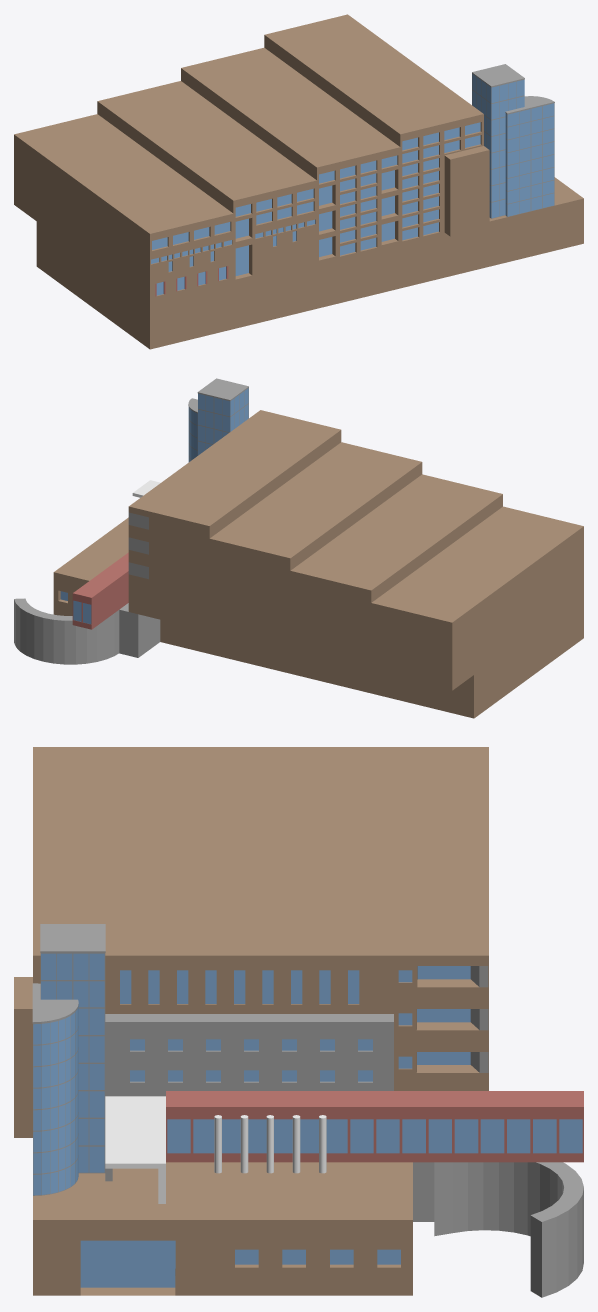
File: artTexture.fbx
3 renders of one model, top to bottom at view 1: azimuth 30°, elevation 25°; view 2: azimuth 150°, elevation 25°; view 3: azimuth 270°, elevation 25°, orthographic. The views are drawn at different scales.
Visible parts, largest first — view 1: Cube.006, Cube.001, Cylinder, Cube.002, Cube.007, Cube; view 2: Cube.006, Cube.001, Cylinder.001, Cube, Cube.002, Cube.003, Cube.005, Cylinder; view 3: Cube.006, Cube, Cube.003, Cube.004, Cylinder.001, Cube.002, Cylinder, Cube.001, Cube.008, Cube.007, Cube.005.
Part boxes in pixels (left/top/right/bottom): Cube.006: left=14, top=14, right=483, bottom=304; Cube.001: left=36, top=208, right=544, bottom=349; Cylinder: left=505, top=96, right=554, bottom=216; Cube.002: left=472, top=64, right=524, bottom=218; Cube.007: left=444, top=146, right=489, bottom=236; Cube: left=544, top=177, right=583, bottom=252; Cube.006: left=128, top=410, right=583, bottom=690; Cube.001: left=160, top=594, right=583, bottom=718; Cylinder.001: left=14, top=598, right=119, bottom=664; Cube: left=53, top=517, right=128, bottom=615; Cube.002: left=197, top=378, right=248, bottom=455; Cube.003: left=72, top=552, right=128, bottom=629; Cube.005: left=119, top=603, right=160, bottom=657; Cylinder: left=188, top=398, right=197, bottom=462; Cube.006: left=33, top=747, right=488, bottom=1090; Cube: left=33, top=1188, right=412, bottom=1295; Cube.003: left=166, top=1091, right=583, bottom=1162; Cube.004: left=105, top=1014, right=393, bottom=1096; Cylinder.001: left=434, top=1162, right=583, bottom=1297; Cube.002: left=40, top=924, right=105, bottom=1173; Cylinder: left=32, top=983, right=78, bottom=1195; Cube.001: left=70, top=1162, right=412, bottom=1187; Cube.008: left=105, top=1096, right=165, bottom=1168; Cube.007: left=14, top=977, right=32, bottom=1137; Cube.005: left=413, top=1162, right=434, bottom=1221.
Bounding box in the file's own units: 22230 × 8650 × 15000.
